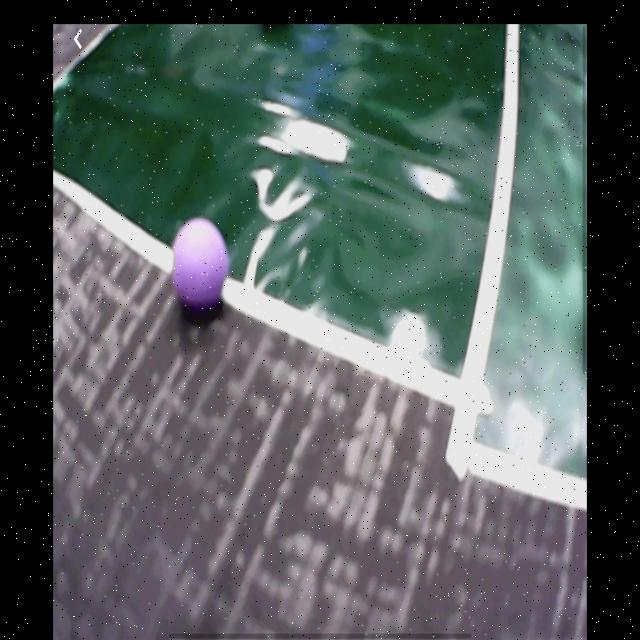ball: (171, 218, 230, 312)
